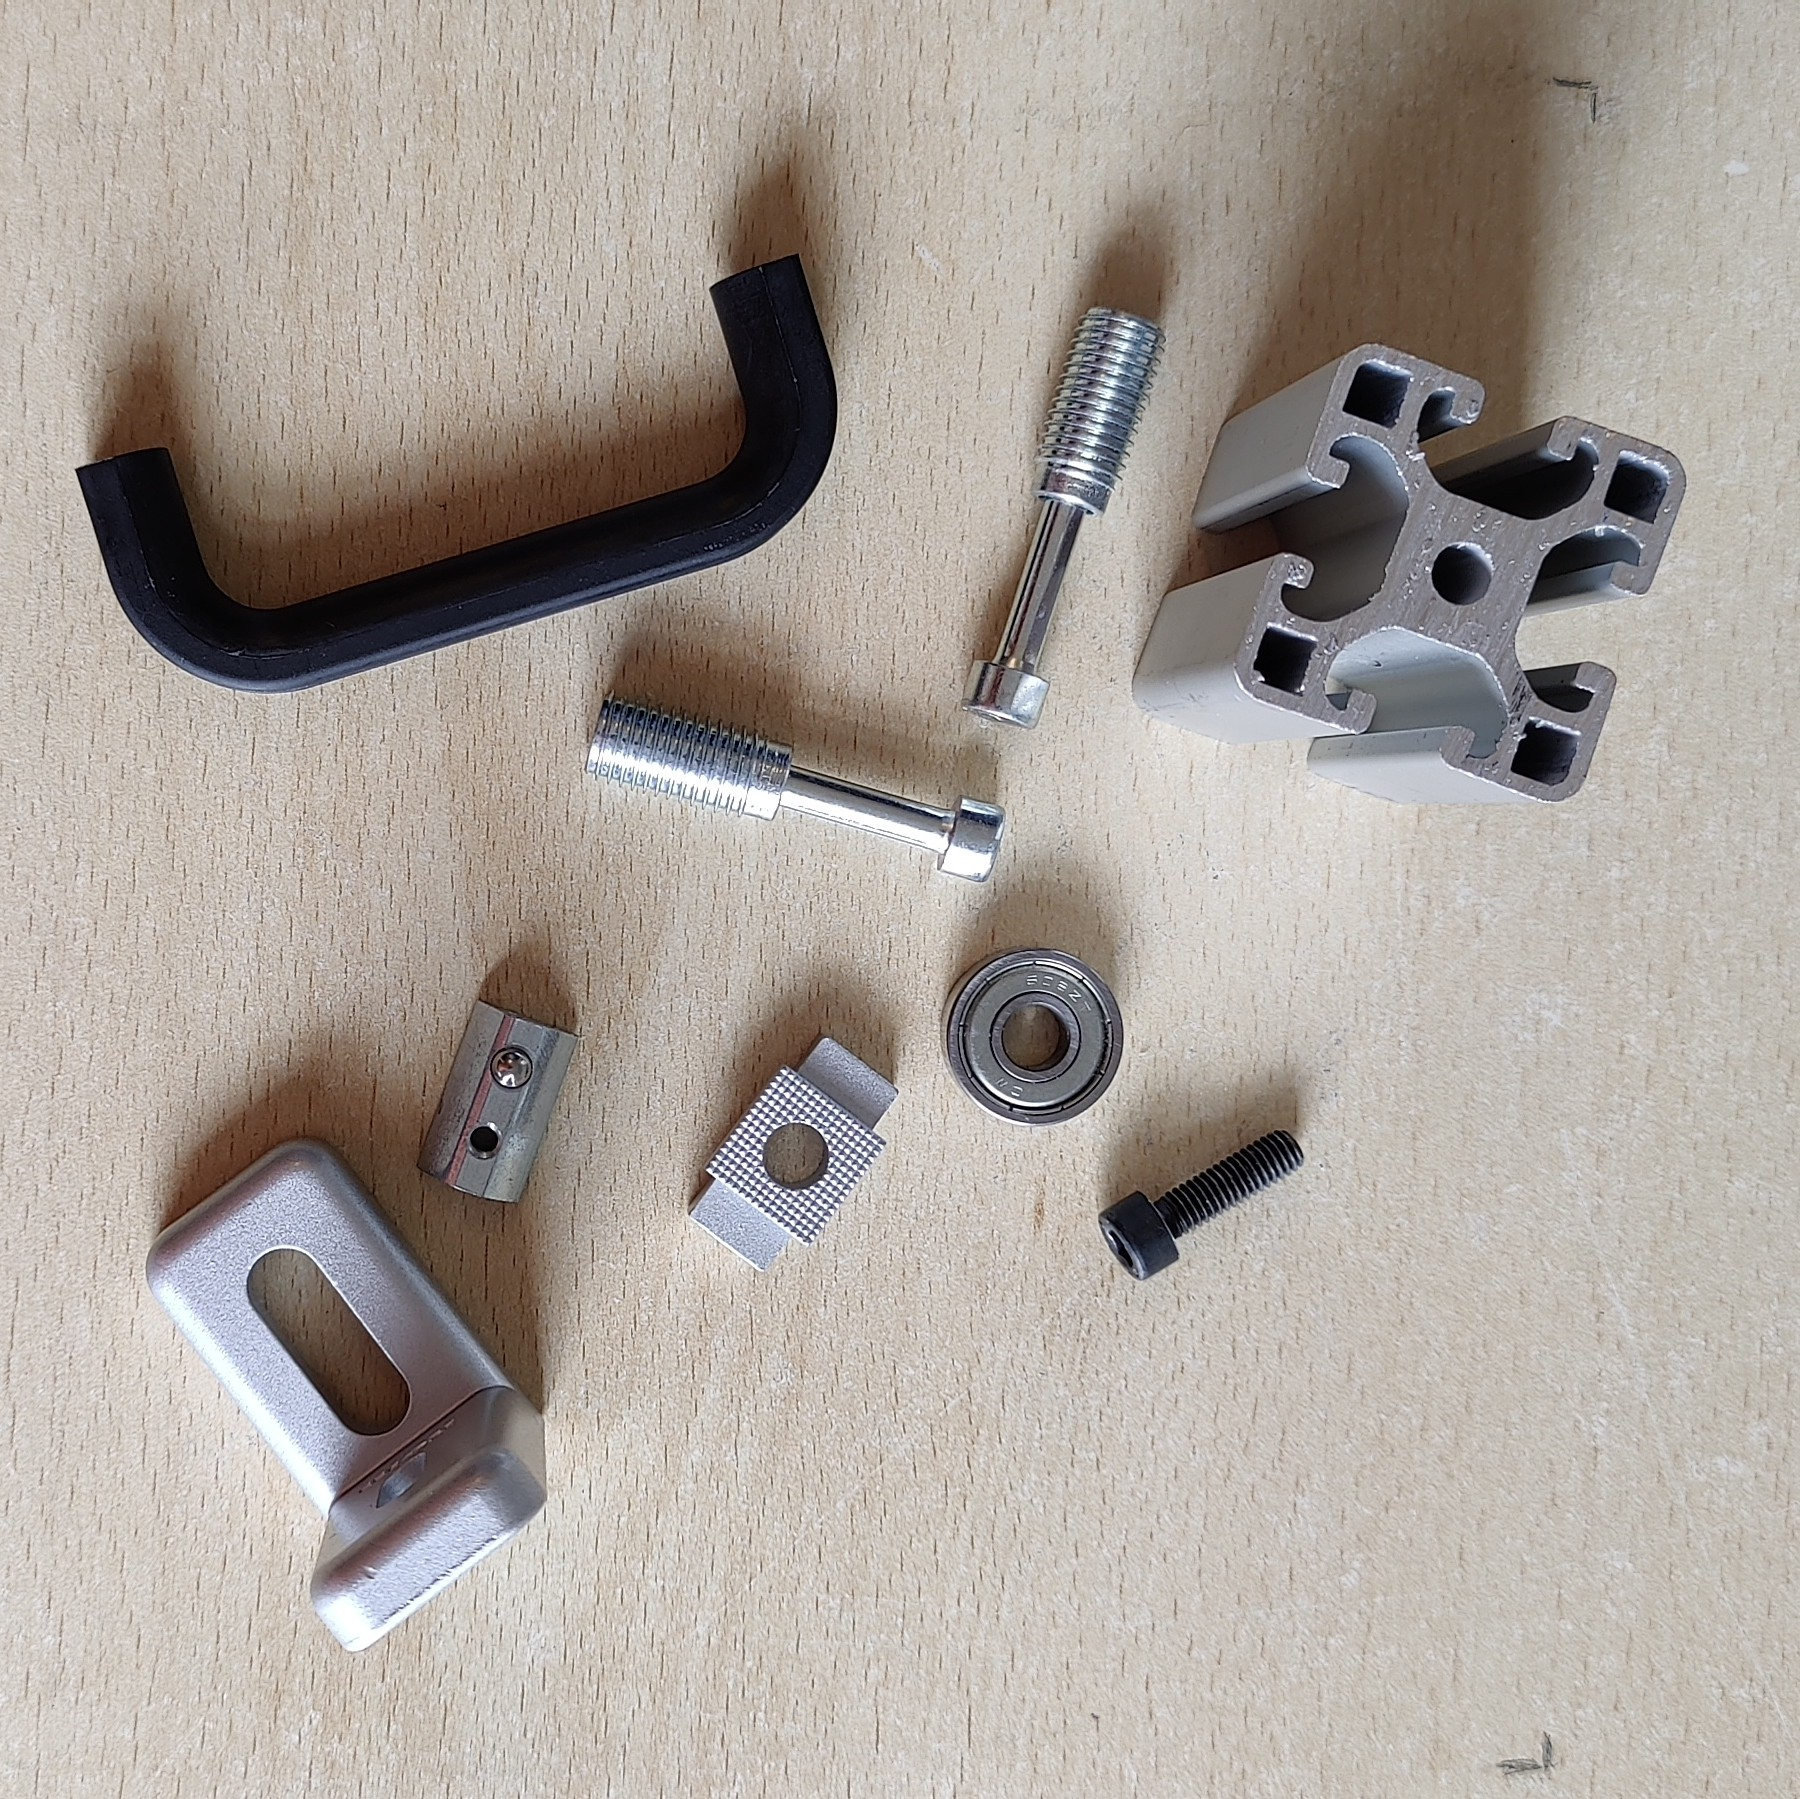Aluminium Extension: (1128, 343, 1690, 811)
Ball Bearing: (939, 944, 1125, 1125)
Multiwinkel: (142, 1132, 550, 1656)
Pull Handle: (76, 249, 842, 699)
Shoulder Socket Head Cap Screw: (958, 301, 1168, 735), (580, 692, 1008, 885)
Socket Head Cap Screw: (1097, 1122, 1306, 1283)
T Nut Square: (682, 1030, 899, 1277)
T Spring Nut: (415, 995, 586, 1208)
